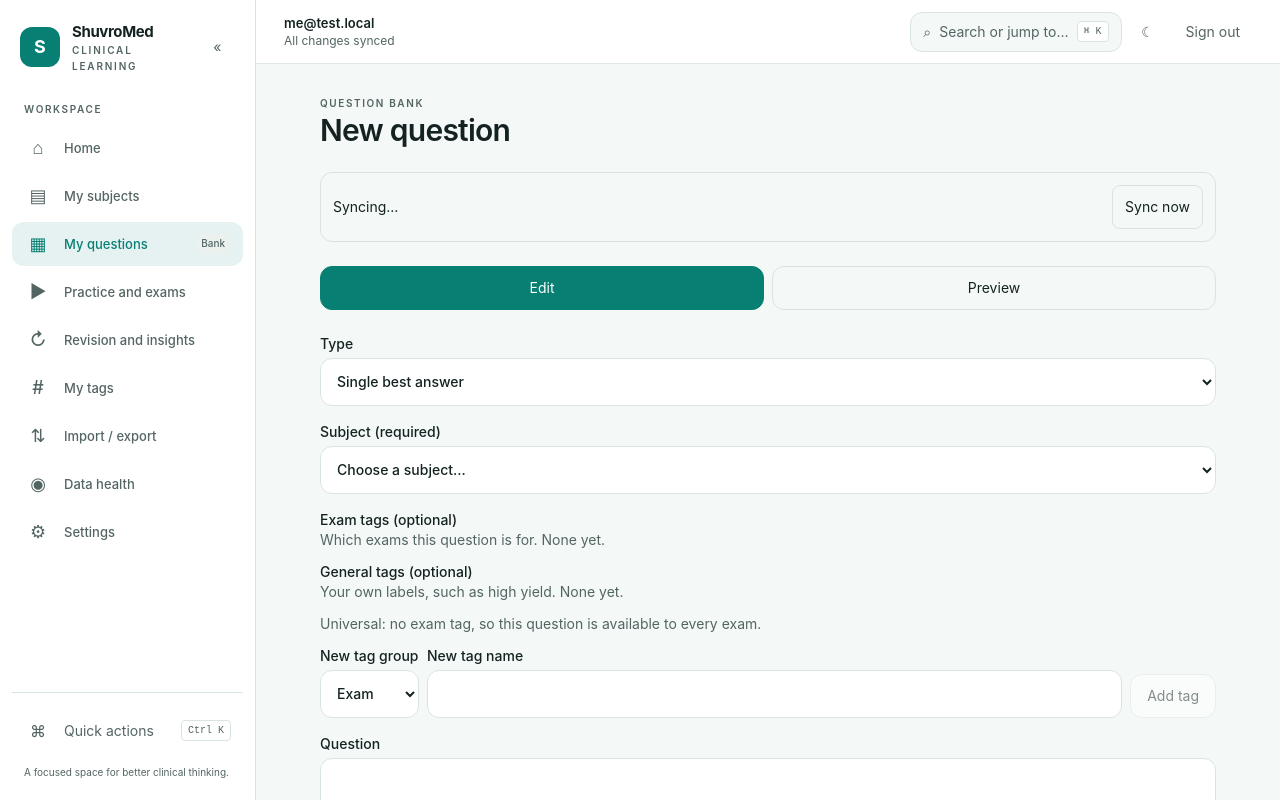
Test: My questions › keeps an unsaved draft on the device and offers to restore it
Later steps or results of the test are not shown.
Step 1. Select "Anatomy" in the dropdown labelled "Subject (required)" → (768, 470), box [320, 446, 1216, 494]
(page scrolled)
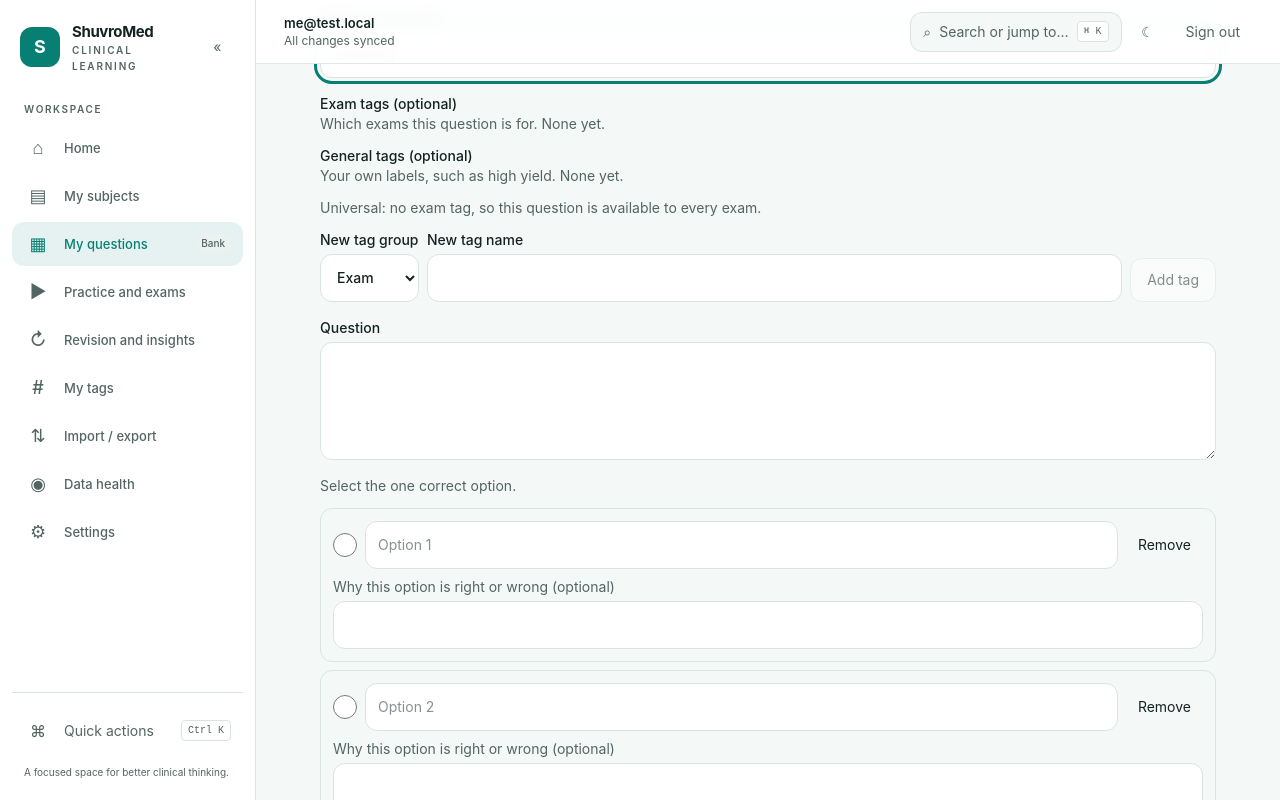
Step 2. Type "Half written" into the text box labelled "Question" → (768, 400), box [320, 342, 1216, 460]
(page scrolled)
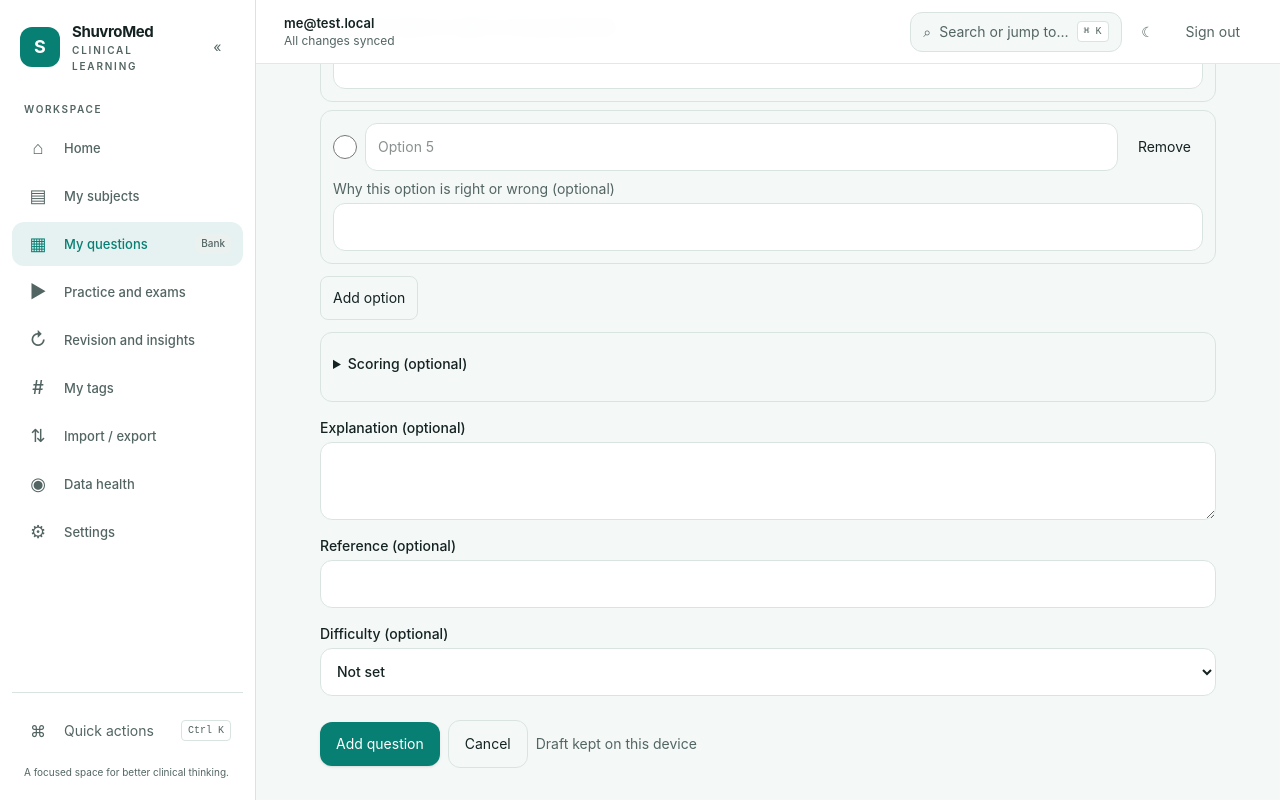
Expected: the text "Draft kept on this device" is shown, [536, 734, 697, 754]
